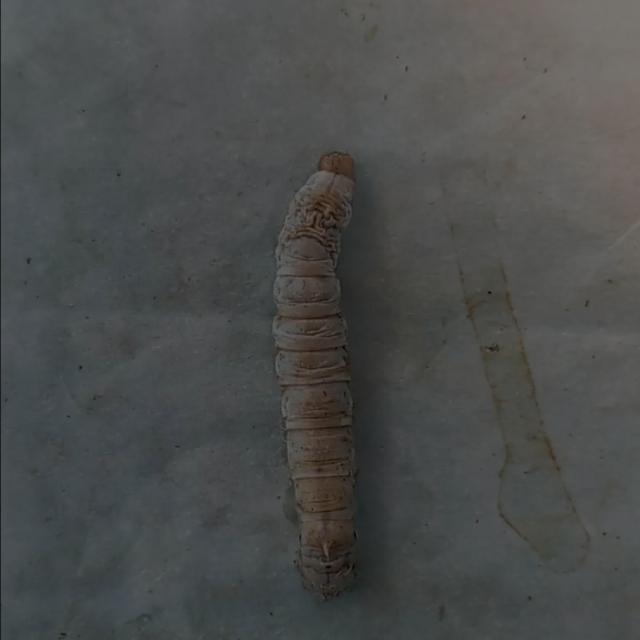Grasserie: (246, 129, 387, 603)
